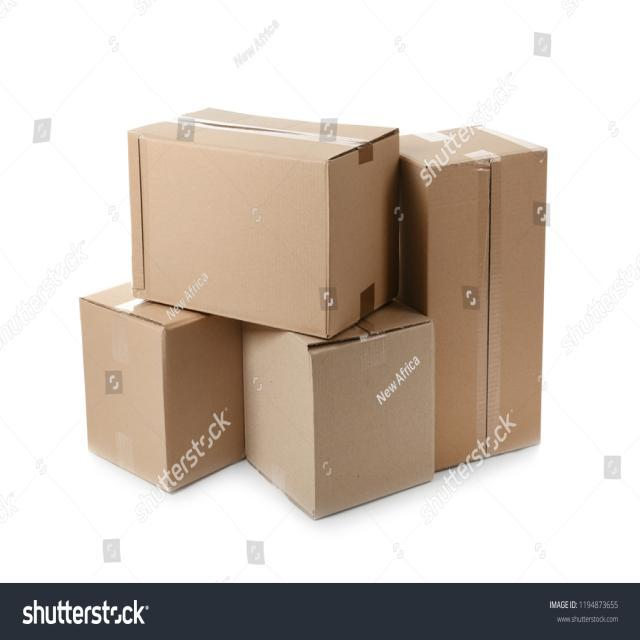BoxFace: (126, 131, 330, 340), (429, 149, 546, 477), (312, 320, 434, 520), (78, 298, 170, 492)
